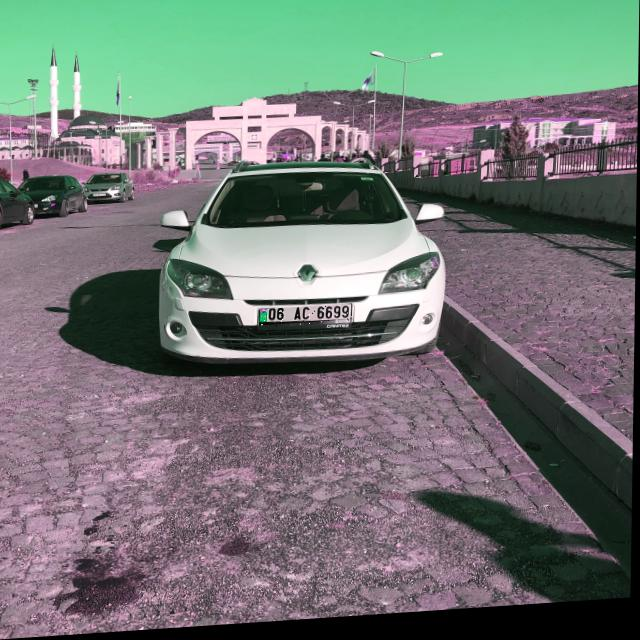license_plate: (260, 309, 354, 332)
